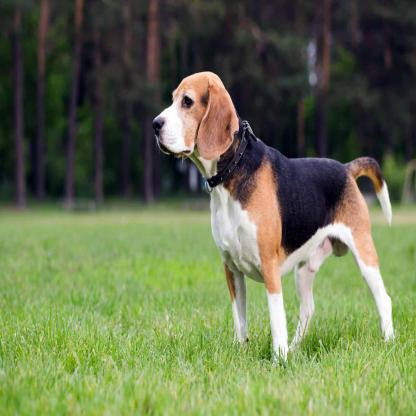Bigl: (148, 69, 400, 371)
